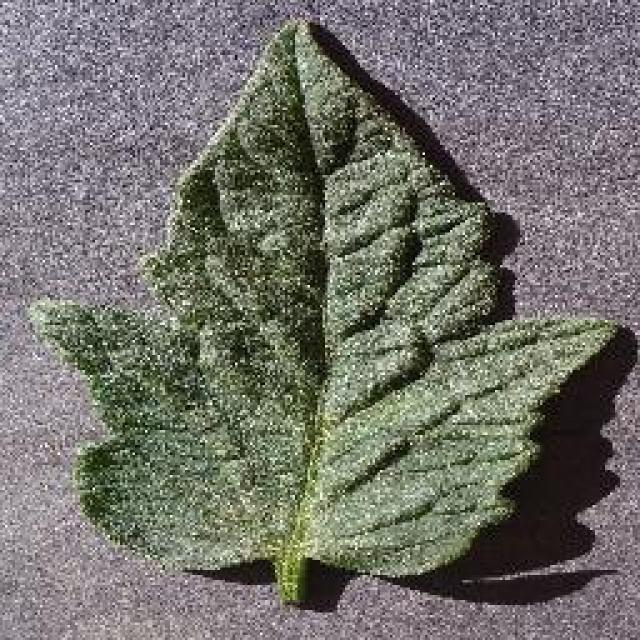Tomato_Healthy: (58, 23, 570, 574)
